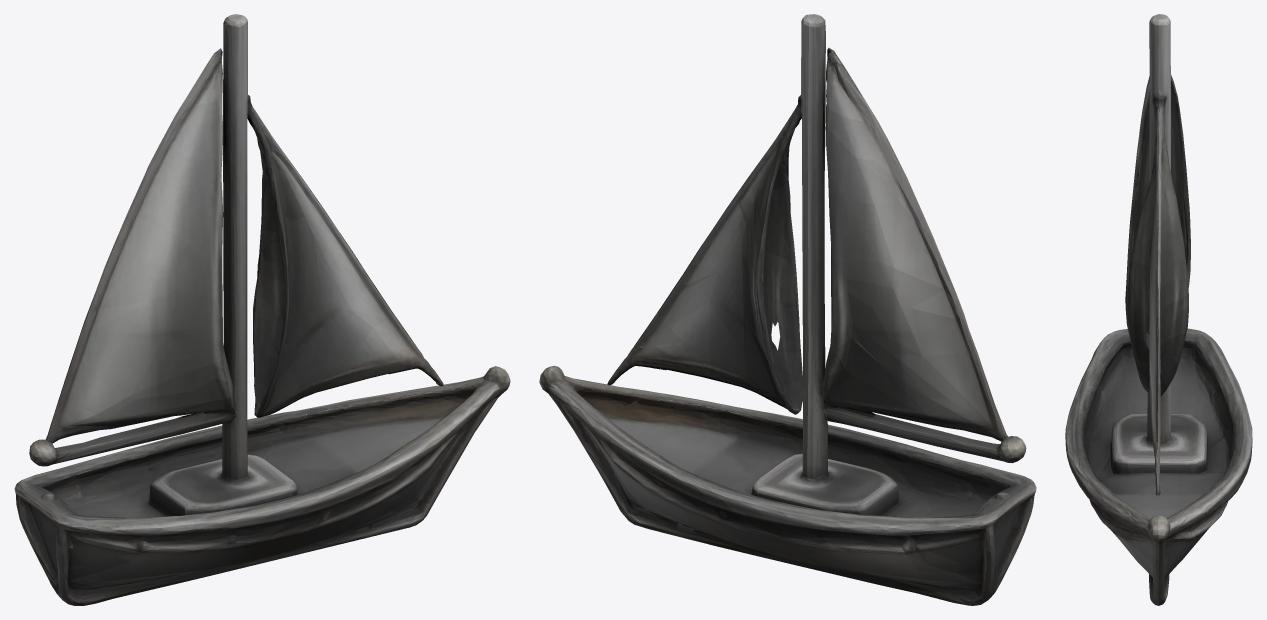
File: sailboat.glb
3 views of the same model, side by side, from view 1: azimuth 30°, elevation 25°; view 2: azimuth 150°, elevation 25°; view 3: azimuth 270°, elevation 25° (orthographic). The views are drawn at different scales.
Visible parts, largest first — view 1: world; view 2: world; view 3: world.
Part boxes in pixels (bbox=[...]): world: bbox=[14, 14, 510, 605]; world: bbox=[539, 14, 1036, 605]; world: bbox=[1065, 14, 1252, 605].
Bounding box in the file's own units: 0.9162 × 1 × 0.3346.
Materials: 1 (1 with a texture image).
